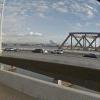Bridge: (7, 36, 99, 52)
